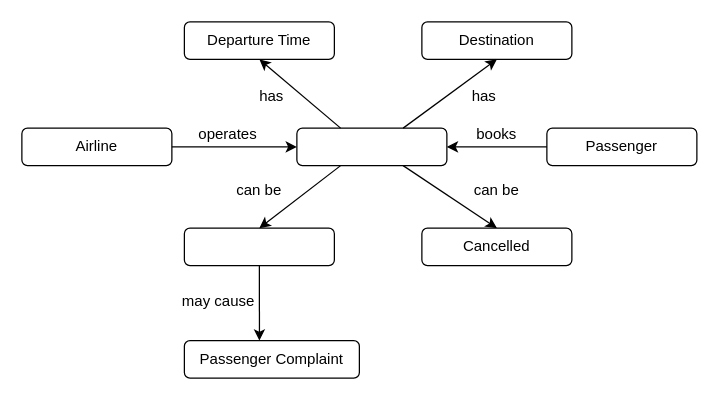
The diagram is 719 pixels wide and 400 high, and some of its shapes have lost their labels. Here are the shapes that lost their labels. From the top down, the box of each, then its label:
(296, 127, 447, 166): Flight
(183, 227, 334, 266): Delayed
